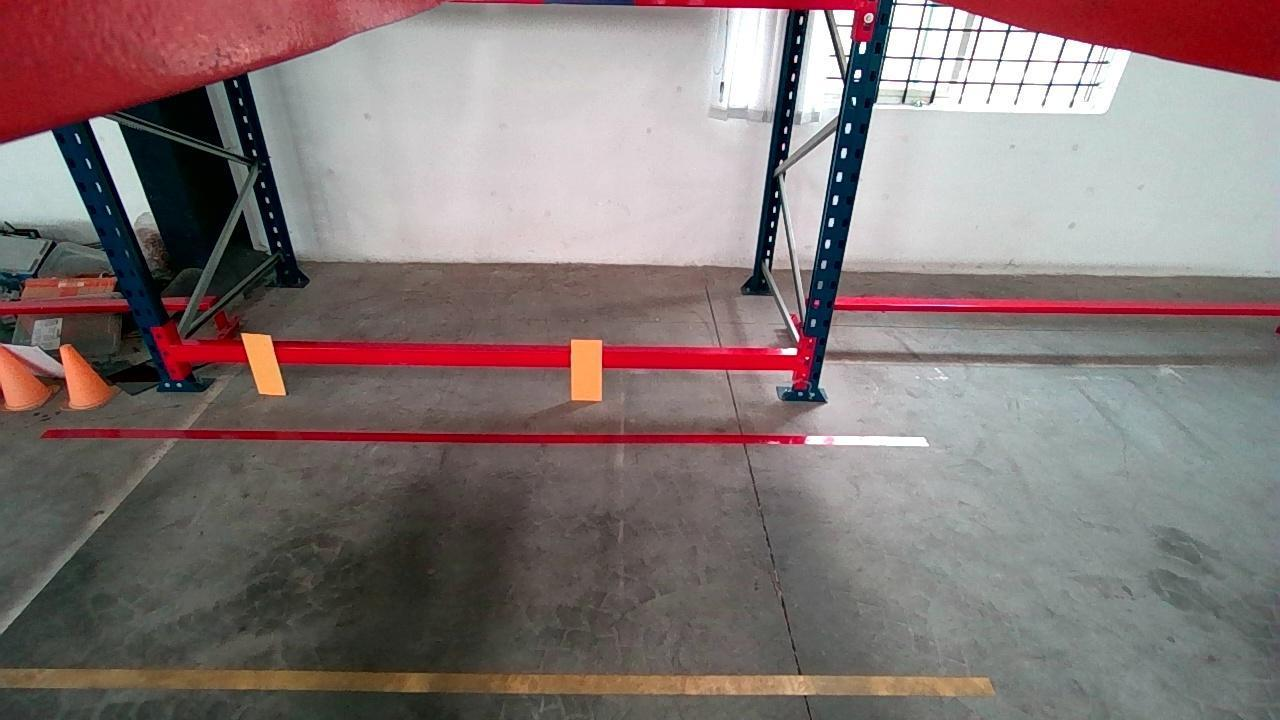h_rack: (170, 345, 801, 369)
orange_strip: (241, 331, 289, 394), (568, 340, 604, 400)
red_line: (39, 426, 931, 445)
yellow_line: (0, 668, 996, 694)
